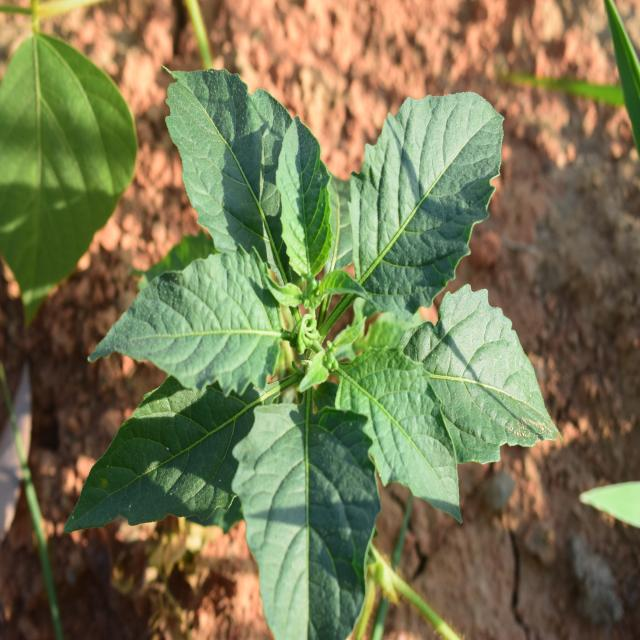Black_nightshade: (127, 66, 531, 609)
